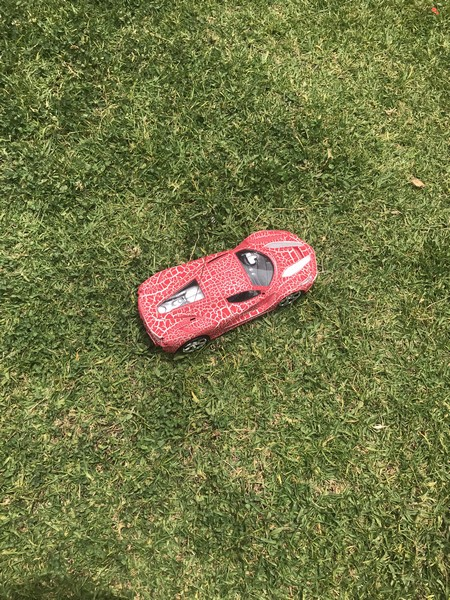RC: (135, 228, 320, 361)
